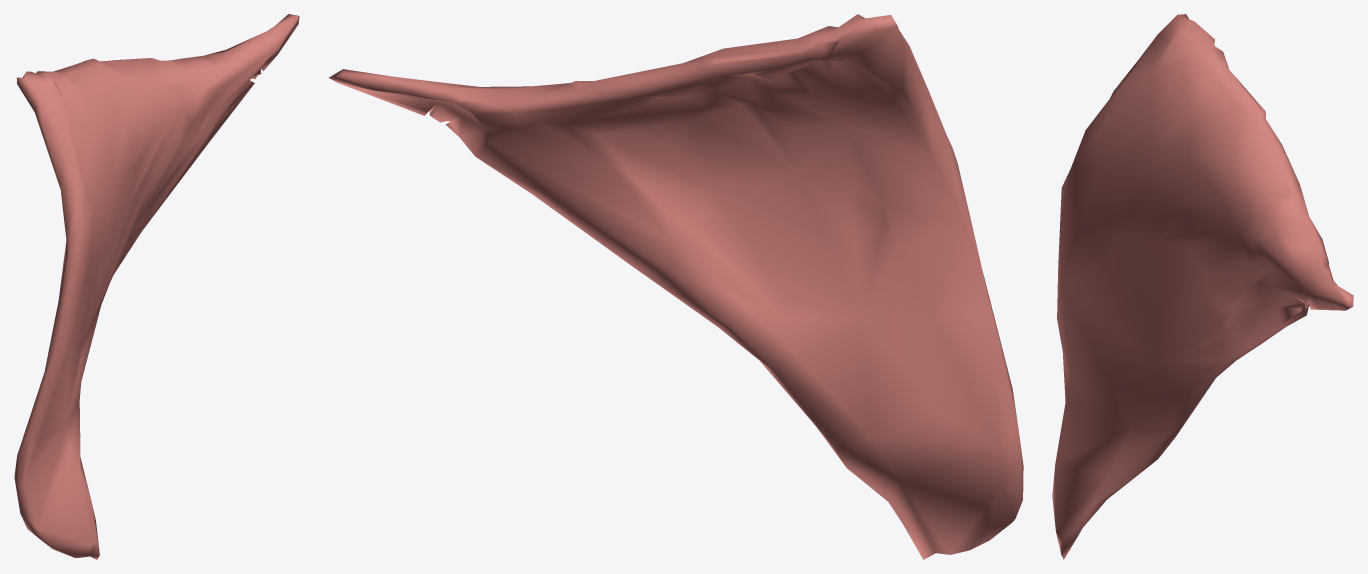
The picture shows the model from 3 angles, left to right: view 1: azimuth 30°, elevation 25°; view 2: azimuth 150°, elevation 25°; view 3: azimuth 270°, elevation 25°; orthographic projection. The views are drawn at different scales.
Parts seen in each view (by area): view 1: ZA_556e510c0a5d694b; view 2: ZA_556e510c0a5d694b; view 3: ZA_556e510c0a5d694b.
Part boxes in pixels (x1,y1,x2,y2): ZA_556e510c0a5d694b: (14,14,299,559); ZA_556e510c0a5d694b: (328,14,1023,559); ZA_556e510c0a5d694b: (1052,14,1353,559).
Size of the model in its own units: 0.027 by 0.0289 by 0.0149.
